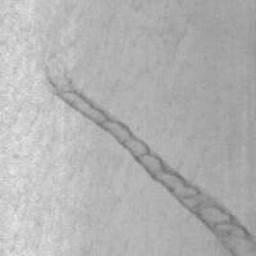Water spot: (44, 63, 256, 256)
